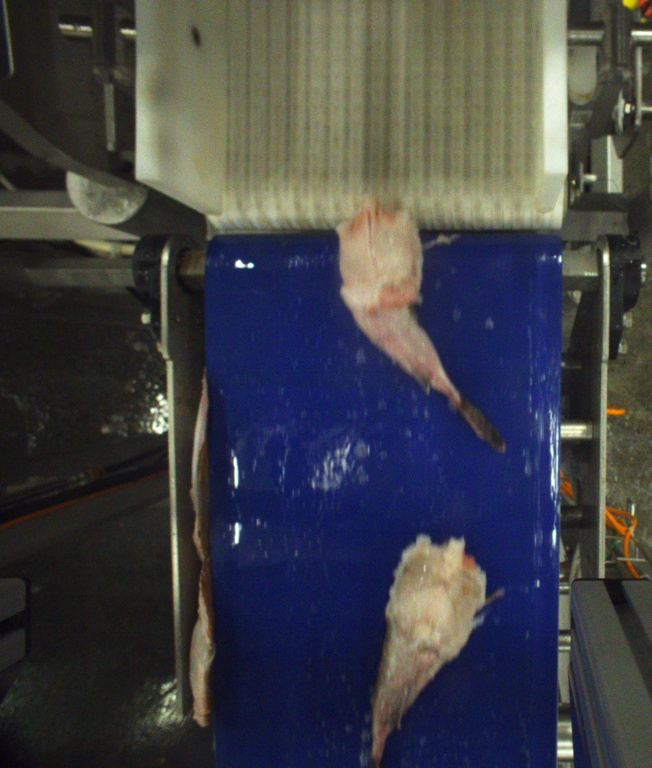ANF: (363, 533, 488, 768)
